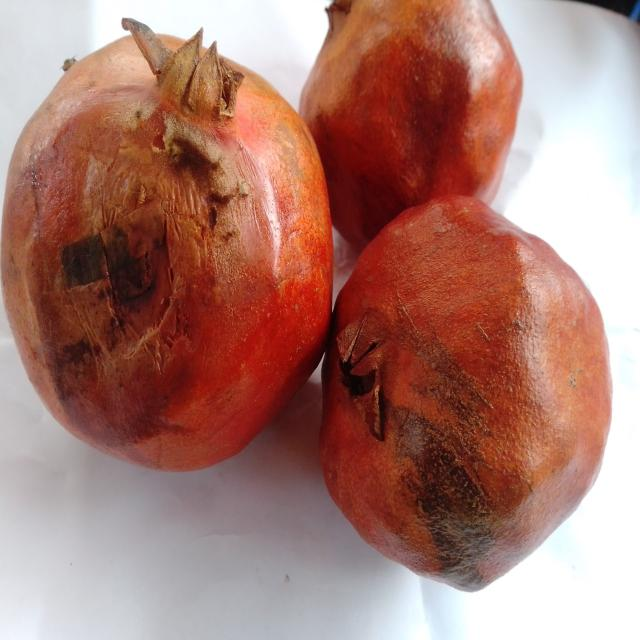Rotten: (0, 13, 339, 475), (321, 184, 615, 593), (291, 0, 525, 197)
